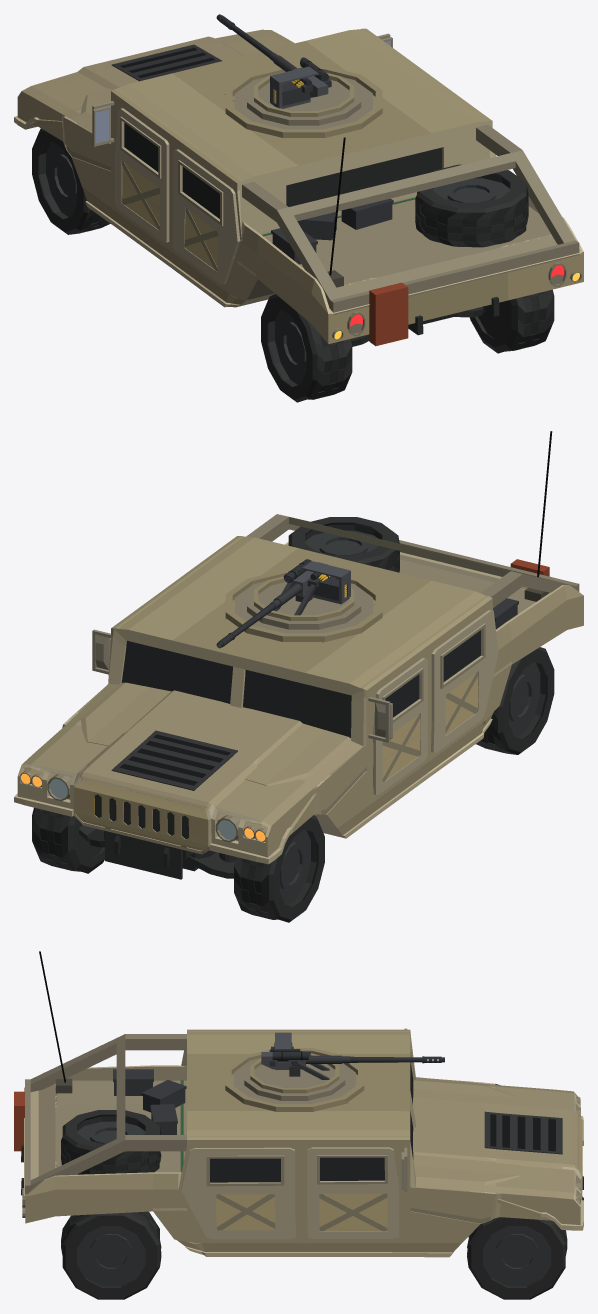
Rendered from low_poly_humvee.glb.
The picture shows the model from 3 angles, top to bottom: view 1: azimuth 30°, elevation 25°; view 2: azimuth 150°, elevation 25°; view 3: azimuth 270°, elevation 25°; orthographic projection. The views are drawn at different scales.
Visible parts, largest first — view 1: group23_8, tube_33, cylinder_selection_2, mesh_selection_selection_37, mesh_selection_31, cylinder_11, cylinder_selection_1; view 2: group23_8, tube_33, cylinder_11, mesh_selection_selection_37, mesh_selection_31, cylinder_selection_2, cylinder_0; view 3: group23_8, mesh_selection_selection_selection_36, group19_32, cylinder_selection_1, cylinder_0, tube_33.
Boxes of the visible parts, bbox=[...] form: group23_8: bbox=[14, 28, 583, 346]; tube_33: bbox=[216, 14, 372, 129]; cylinder_selection_2: bbox=[261, 294, 369, 402]; mesh_selection_selection_37: bbox=[172, 149, 240, 284]; mesh_selection_31: bbox=[115, 108, 169, 242]; cylinder_11: bbox=[32, 128, 110, 234]; cylinder_selection_1: bbox=[454, 289, 554, 353]; group23_8: bbox=[14, 514, 583, 879]; tube_33: bbox=[216, 559, 372, 648]; cylinder_11: bbox=[182, 815, 324, 922]; mesh_selection_selection_37: bbox=[431, 610, 498, 752]; mesh_selection_31: bbox=[373, 658, 427, 794]; cylinder_selection_2: bbox=[476, 647, 554, 754]; cylinder_0: bbox=[32, 779, 104, 873]; group23_8: bbox=[14, 1028, 583, 1257]; mesh_selection_selection_selection_36: bbox=[181, 1147, 296, 1239]; group19_32: bbox=[307, 1147, 399, 1238]; cylinder_selection_1: bbox=[61, 1211, 161, 1299]; cylinder_0: bbox=[467, 1217, 567, 1299]; tube_33: bbox=[233, 1032, 444, 1104].
Bounding box in the file's own units: 6.86 × 6.3 × 12.82.
Materials: 16 (16 with a texture image).
